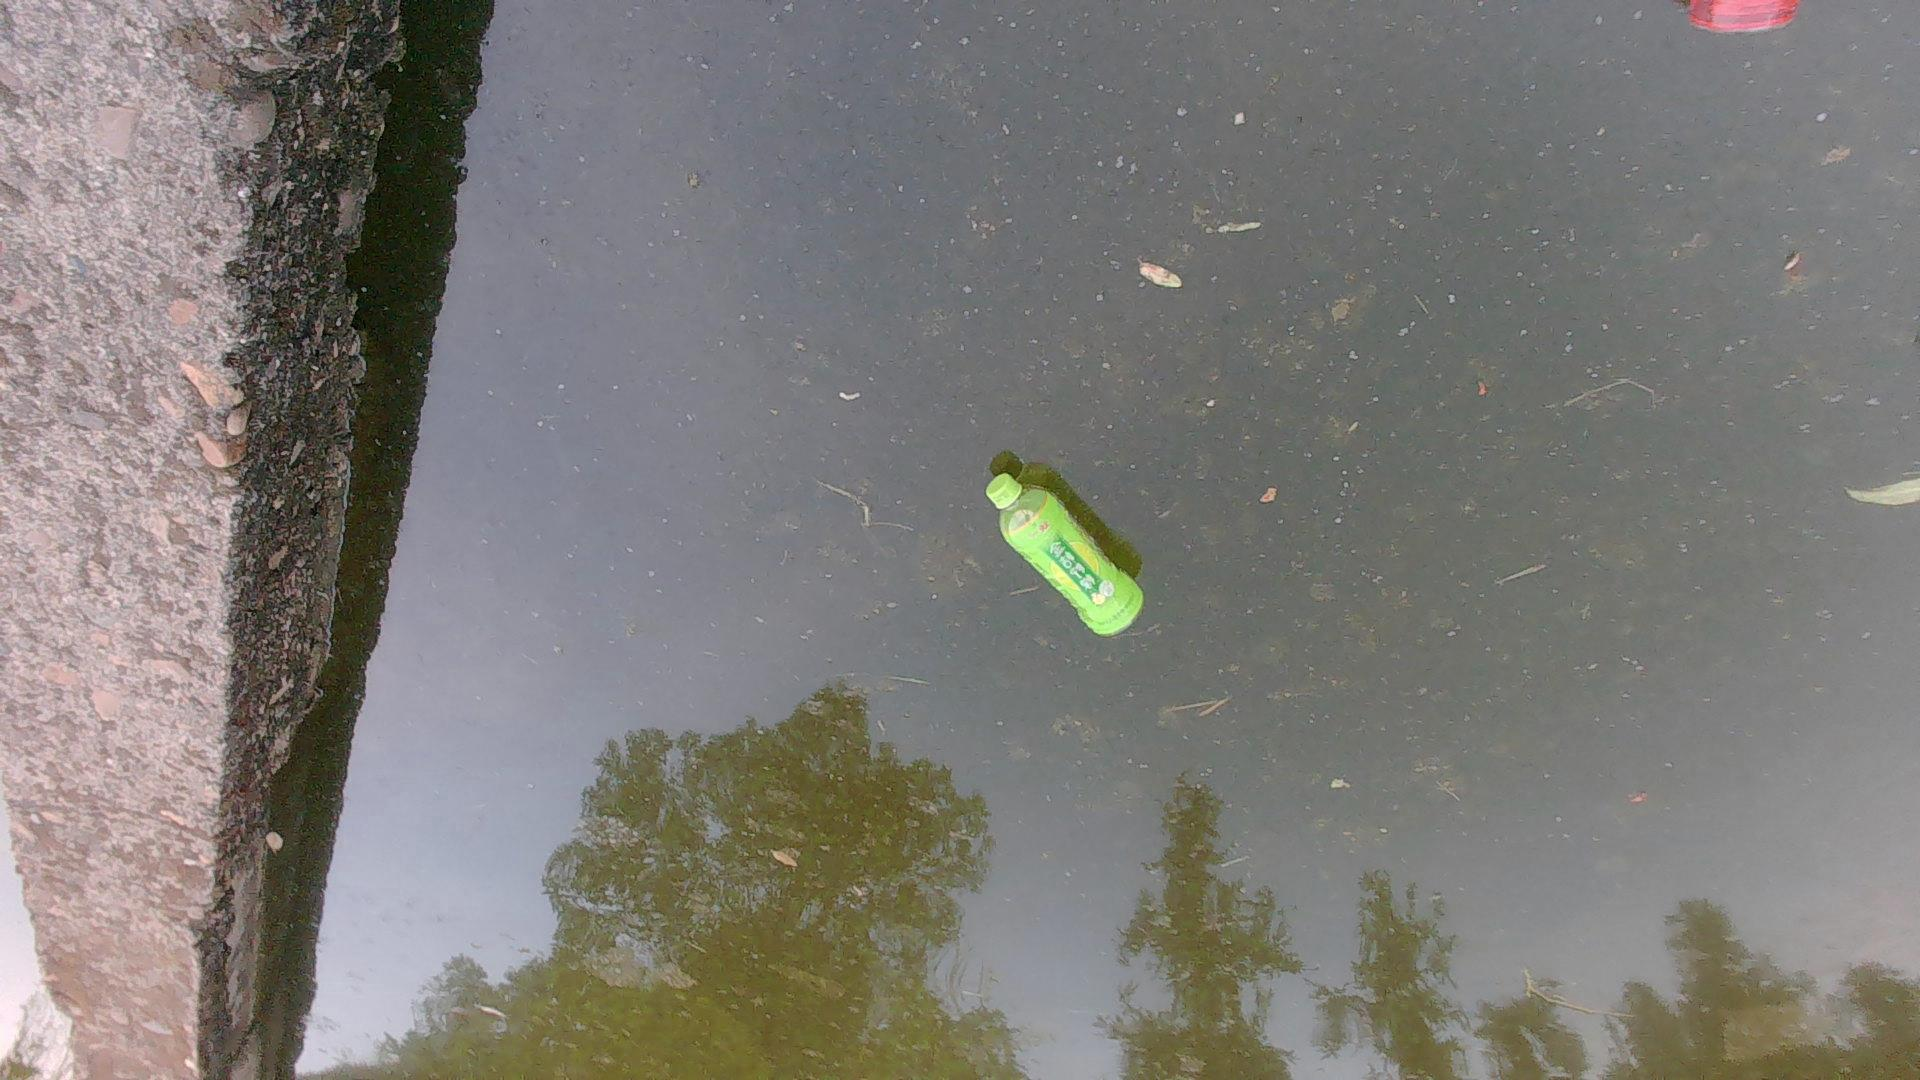Plastic: (978, 459, 1149, 646)
